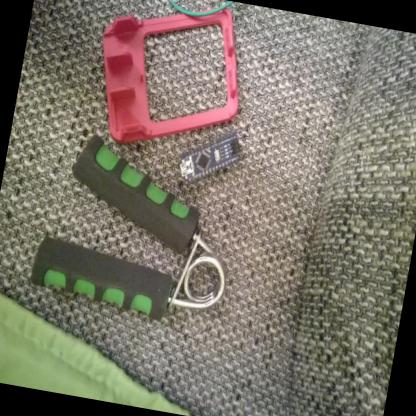Arduino_Nano: (175, 124, 248, 195)
